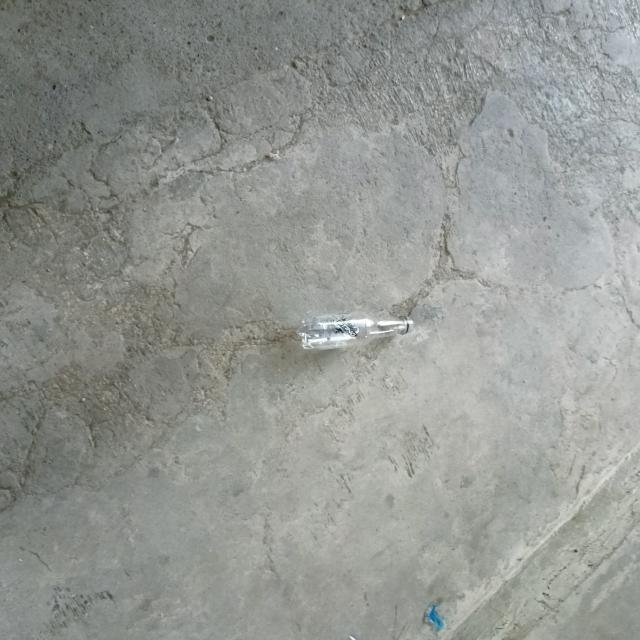Bottle: (297, 311, 414, 351)
